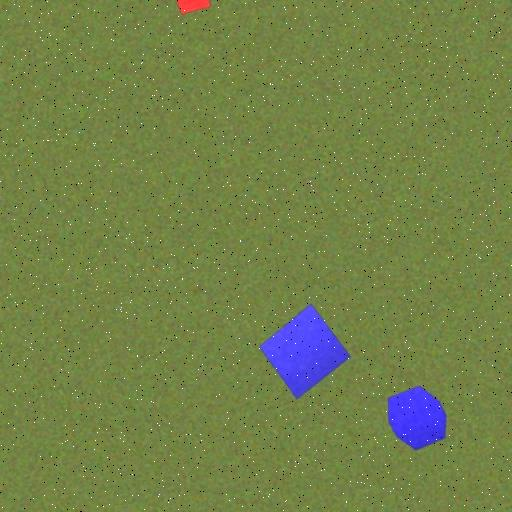BLUE_SQUARE: (258, 303, 352, 400)
RED_SQUARE: (170, 0, 212, 15)
